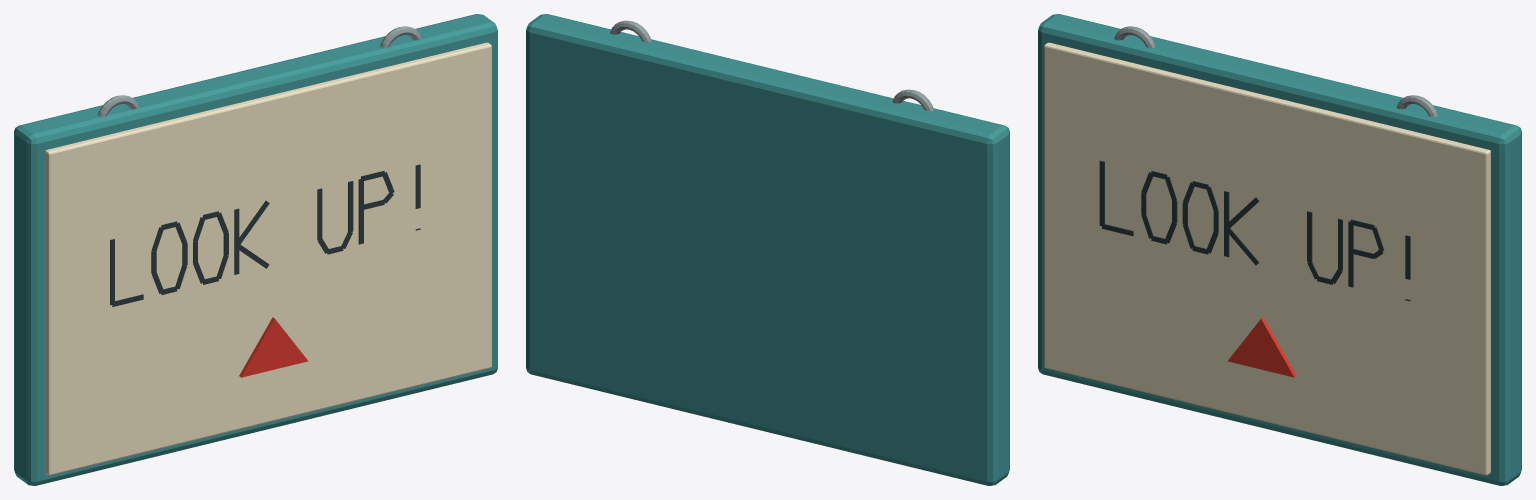
The model's file is P074_cue_cards.glb.
The picture shows the model from 3 angles, left to right: view 1: azimuth 30°, elevation 25°; view 2: azimuth 150°, elevation 25°; view 3: azimuth 330°, elevation 25°; orthographic projection.
Parts seen in each view (by area): view 1: P074_card_002, P074_back_001, P074_cue_003, P074_cue_arrow_004; view 2: P074_back_001; view 3: P074_card_002, P074_back_001, P074_cue_003, P074_cue_arrow_004.
Boxes of the visible parts, bbox=[...] form: P074_card_002: bbox=[45, 42, 491, 475]; P074_back_001: bbox=[14, 14, 497, 485]; P074_cue_003: bbox=[110, 164, 420, 306]; P074_cue_arrow_004: bbox=[239, 317, 308, 377]; P074_back_001: bbox=[526, 14, 1009, 485]; P074_card_002: bbox=[1044, 42, 1490, 475]; P074_back_001: bbox=[1038, 14, 1521, 485]; P074_cue_003: bbox=[1099, 160, 1410, 301]; P074_cue_arrow_004: bbox=[1227, 317, 1296, 377].
Bounding box in the file's own units: 0.35 × 0.261 × 0.037.
